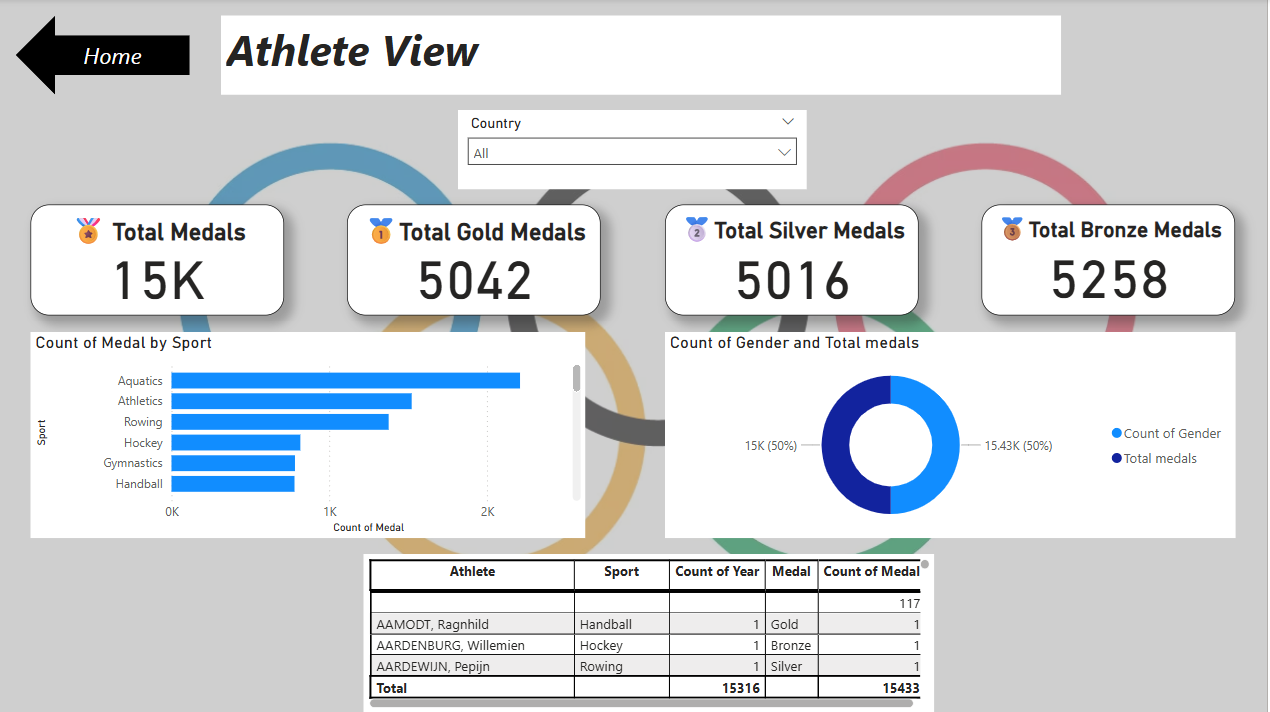

This screenshot's page, from the dashboard's own definition file:
{"tool":"powerbi","page":{"name":"Athlete View","canvas":[1280,720],"ordinal":3},"visuals":[{"type":"shape","box":[16,16,176,80],"z":0},{"type":"textbox","box":[224,16,848,80],"z":1000},{"type":"slicer","fields":{"Values":["Summer-Olympic-medals-1976-to-2008.Country"]},"box":[464,112,352,80],"z":2000},{"type":"card","title":"🏅 Total Medals","fields":{"Values":["Summer-Olympic-medals-1976-to-2008.Total medals"]},"box":[32,208,256,112],"z":3000},{"type":"card","title":"🥇Total Gold Medals","fields":{"Values":["Summer-Olympic-medals-1976-to-2008.Total Gold Medals"]},"box":[352,208,256,112],"z":4000},{"type":"card","title":"🥈Total Silver Medals","fields":{"Values":["Summer-Olympic-medals-1976-to-2008.Total Silver Medals"]},"box":[672,208,256,112],"z":5000},{"type":"card","title":"🥉Total Bronze Medals","fields":{"Values":["Summer-Olympic-medals-1976-to-2008.Total Bronze Medals"]},"box":[992,208,256,112],"z":6000},{"type":"clusteredBarChart","fields":{"Y":["CountNonNull(Summer-Olympic-medals-1976-to-2008.Medal)"],"Category":["Summer-Olympic-medals-1976-to-2008.Sport"]},"box":[32,336,560,208],"z":7000},{"type":"donutChart","fields":{"Y":["CountNonNull(Summer-Olympic-medals-1976-to-2008.Gender)","Summer-Olympic-medals-1976-to-2008.Total medals"]},"box":[672,336,576,208],"z":8000},{"type":"tableEx","fields":{"Values":["Summer-Olympic-medals-1976-to-2008.Athlete","Summer-Olympic-medals-1976-to-2008.Sport","CountNonNull(Summer-Olympic-medals-1976-to-2008.Year)","Summer-Olympic-medals-1976-to-2008.Medal","CountNonNull(Summer-Olympic-medals-1976-to-2008.Medal)"]},"box":[368,560,576,160],"z":9000}]}

Visuals, with their boxes in screenshot pixels (x1, y1, x2, y2), scaled from the page's 1280x720 canvas onto the 1270x712 screenshot:
shape: (16, 16, 190, 95)
textbox: (222, 16, 1064, 95)
slicer - Summer-Olympic-medals-1976-to-2008.Country: (460, 111, 810, 190)
"🏅 Total Medals" card: (32, 206, 286, 316)
"🥇Total Gold Medals" card: (349, 206, 603, 316)
"🥈Total Silver Medals" card: (667, 206, 921, 316)
"🥉Total Bronze Medals" card: (984, 206, 1238, 316)
clusteredBarChart - CountNonNull(Summer-Olympic-medals-1976-to-2008.Medal) x Summer-Olympic-medals-1976-to-2008.Sport: (32, 332, 587, 538)
donutChart - CountNonNull(Summer-Olympic-medals-1976-to-2008.Gender) x Summer-Olympic-medals-1976-to-2008.Total medals: (667, 332, 1238, 538)
tableEx - Summer-Olympic-medals-1976-to-2008.Athlete x Summer-Olympic-medals-1976-to-2008.Sport: (365, 554, 937, 711)
